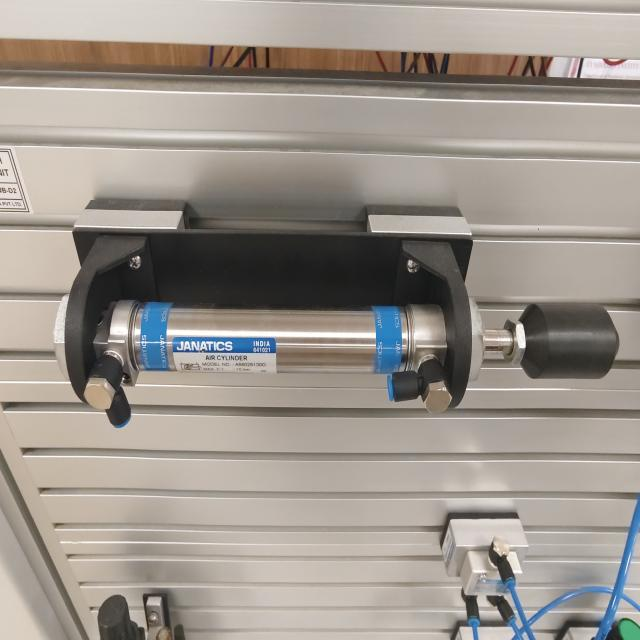double acting pneumatic cylinder: (54, 186, 622, 435)
